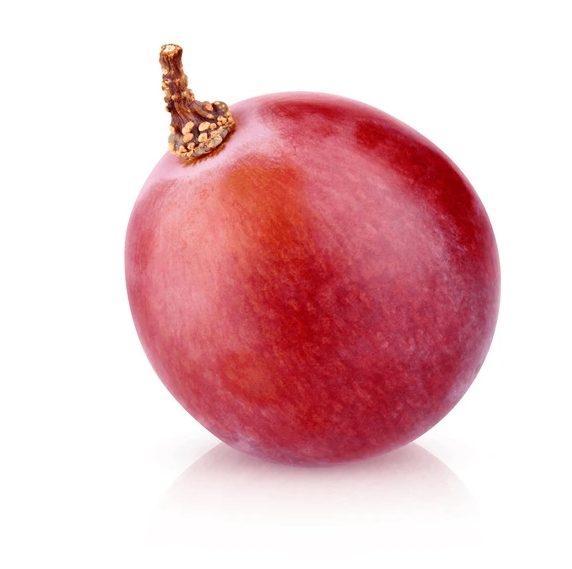grapes: (94, 34, 484, 523)
